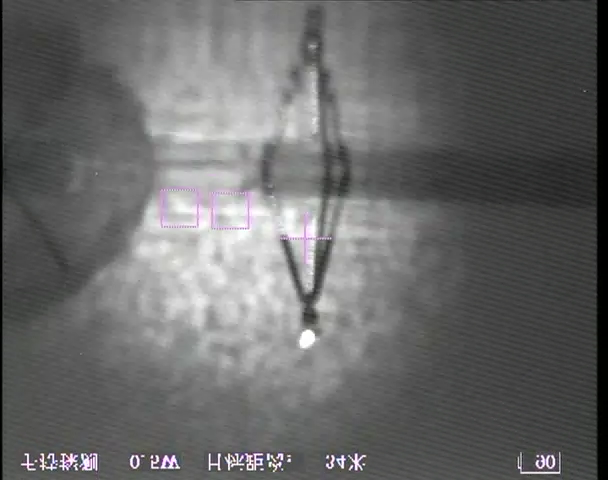my: (297, 327, 317, 351)
